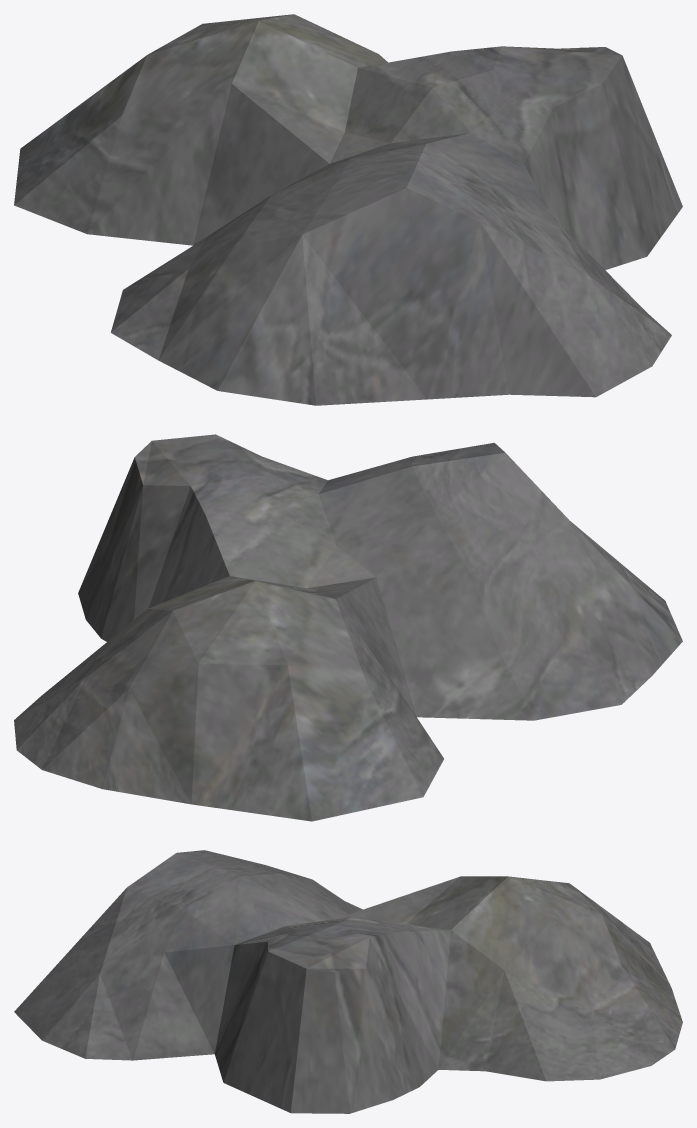
File: Rock08.fbx
The picture shows the model from 3 angles, top to bottom: view 1: azimuth 30°, elevation 25°; view 2: azimuth 150°, elevation 25°; view 3: azimuth 270°, elevation 25°; orthographic projection. The views are drawn at different scales.
Parts seen in each view (by area): view 1: SM_ENV_NATURE_Cave_Rock_S_08.mo; view 2: SM_ENV_NATURE_Cave_Rock_S_08.mo; view 3: SM_ENV_NATURE_Cave_Rock_S_08.mo.
Part boxes in pixels (x1,y1,x2,y2): SM_ENV_NATURE_Cave_Rock_S_08.mo: (14, 14, 682, 405); SM_ENV_NATURE_Cave_Rock_S_08.mo: (14, 434, 682, 821); SM_ENV_NATURE_Cave_Rock_S_08.mo: (14, 850, 682, 1113).
Size of the model in its own units: 56.01 by 14.95 by 72.64.
Materials: 1 (1 with a texture image).
